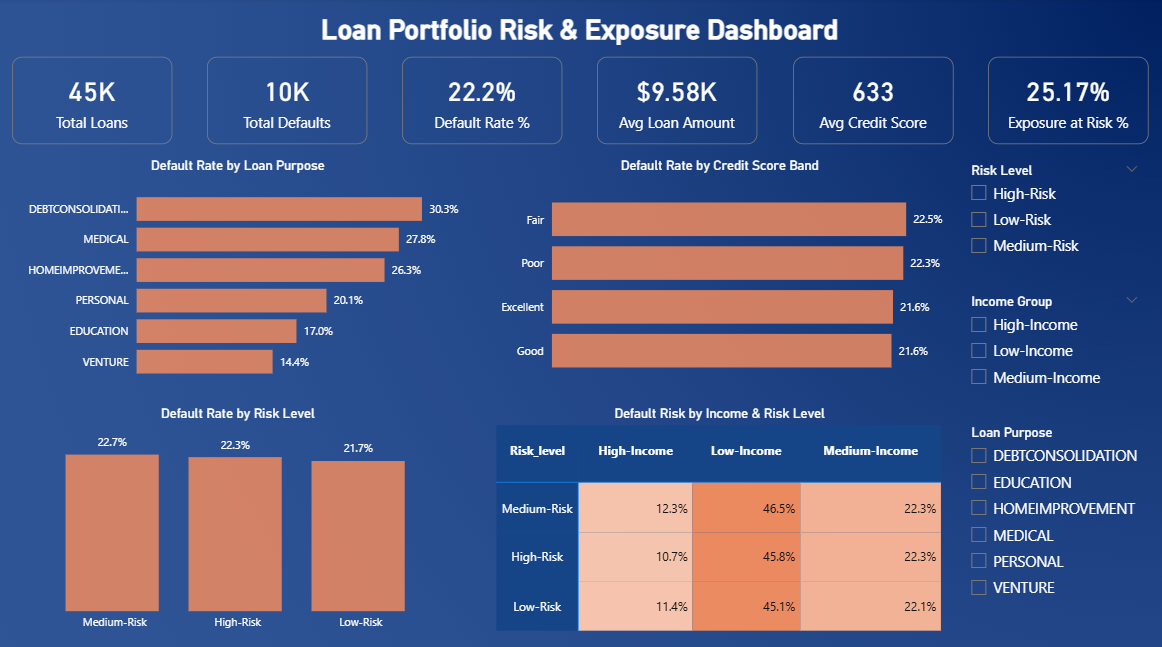

The page's visual inventory and layout, read from the dashboard file:
{"tool":"powerbi","page":{"name":"Page 1","canvas":[1280,720],"ordinal":0},"visuals":[{"type":"card","fields":{"Values":["loan_data.Total Loans"]},"box":[16,64,176,96],"z":0},{"type":"card","fields":{"Values":["loan_data.Total Defaults"]},"box":[230.4,64,176,96],"z":1000},{"type":"card","fields":{"Values":["loan_data.Default Rate %"]},"box":[444.8,64,176,96],"z":2000},{"type":"card","fields":{"Values":["loan_data.Avg Loan Amount"]},"box":[659.2,64,176,96],"z":3000},{"type":"card","fields":{"Values":["loan_data.Avg Credit Score"]},"box":[873.6,64,176,96],"z":4000},{"type":"card","fields":{"Values":["loan_data.Exposure at Risk %"]},"box":[1088,64,176,96],"z":5000},{"type":"clusteredColumnChart","title":"Default Rate by Risk Level","fields":{"Category":["loan_data.Risk_level"],"Y":["loan_data.Default Rate %"]},"box":[16,448,496,256],"z":6000},{"type":"barChart","title":"Default Rate  by Credit Score Band","fields":{"Category":["loan_data.Credit Band"],"Y":["loan_data.Default Rate %"]},"box":[544,176,500,256],"z":7000},{"type":"clusteredBarChart","title":"Default Rate  by Loan Purpose","fields":{"Category":["loan_data.loan_intent"],"Y":["loan_data.Default Rate %"]},"box":[16,176,496,256],"z":8000},{"type":"pivotTable","title":"Default Risk by Income & Risk Level","fields":{"Rows":["loan_data.Risk_level"],"Columns":["loan_data.Income_group"],"Values":["loan_data.Default Rate %"]},"box":[544,448,500,256],"z":9000},{"type":"slicer","fields":{"Values":["loan_data.Risk_level"]},"box":[1056,176,208,128],"z":10000},{"type":"slicer","fields":{"Values":["loan_data.Income_group"]},"box":[1056,320,208,128],"z":11000},{"type":"slicer","fields":{"Values":["loan_data.loan_intent"]},"box":[1056,464,208,240],"z":12000},{"type":"card","fields":{"Values":["loan_data.Text Label"]},"box":[0,0,1280,64],"z":13000}]}

Visuals, with their boxes in screenshot pixels (x1, y1, x2, y2), scaled from the page's 1280x720 canvas onto the 1162x647 screenshot:
card - loan_data.Total Loans: BBox(15, 58, 174, 144)
card - loan_data.Total Defaults: BBox(209, 58, 369, 144)
card - loan_data.Default Rate %: BBox(404, 58, 564, 144)
card - loan_data.Avg Loan Amount: BBox(598, 58, 758, 144)
card - loan_data.Avg Credit Score: BBox(793, 58, 953, 144)
card - loan_data.Exposure at Risk %: BBox(988, 58, 1147, 144)
"Default Rate by Risk Level" clusteredColumnChart: BBox(15, 403, 465, 633)
"Default Rate  by Credit Score Band" barChart: BBox(494, 158, 948, 388)
"Default Rate  by Loan Purpose" clusteredBarChart: BBox(15, 158, 465, 388)
"Default Risk by Income & Risk Level" pivotTable: BBox(494, 403, 948, 633)
slicer - loan_data.Risk_level: BBox(959, 158, 1147, 273)
slicer - loan_data.Income_group: BBox(959, 288, 1147, 403)
slicer - loan_data.loan_intent: BBox(959, 417, 1147, 633)
card - loan_data.Text Label: BBox(0, 0, 1161, 58)
